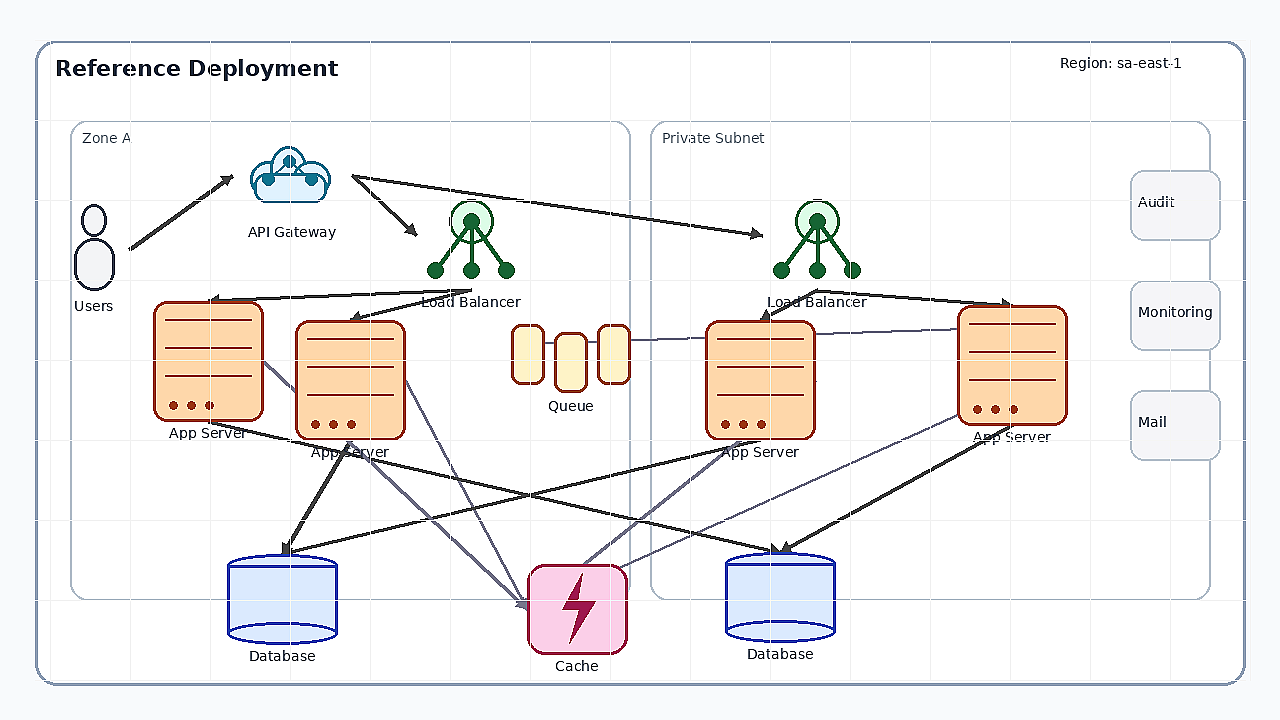API Gateway: (232, 130, 352, 220)
Application Server: (295, 320, 405, 440), (957, 305, 1067, 425), (705, 320, 815, 440), (153, 301, 263, 421)
Cache: (527, 564, 627, 654)
Database: (725, 552, 835, 642), (227, 554, 337, 644)
Load Balancer: (762, 180, 872, 290), (416, 180, 526, 290)
Message Queue: (511, 324, 631, 394)
User: (59, 204, 129, 294)
